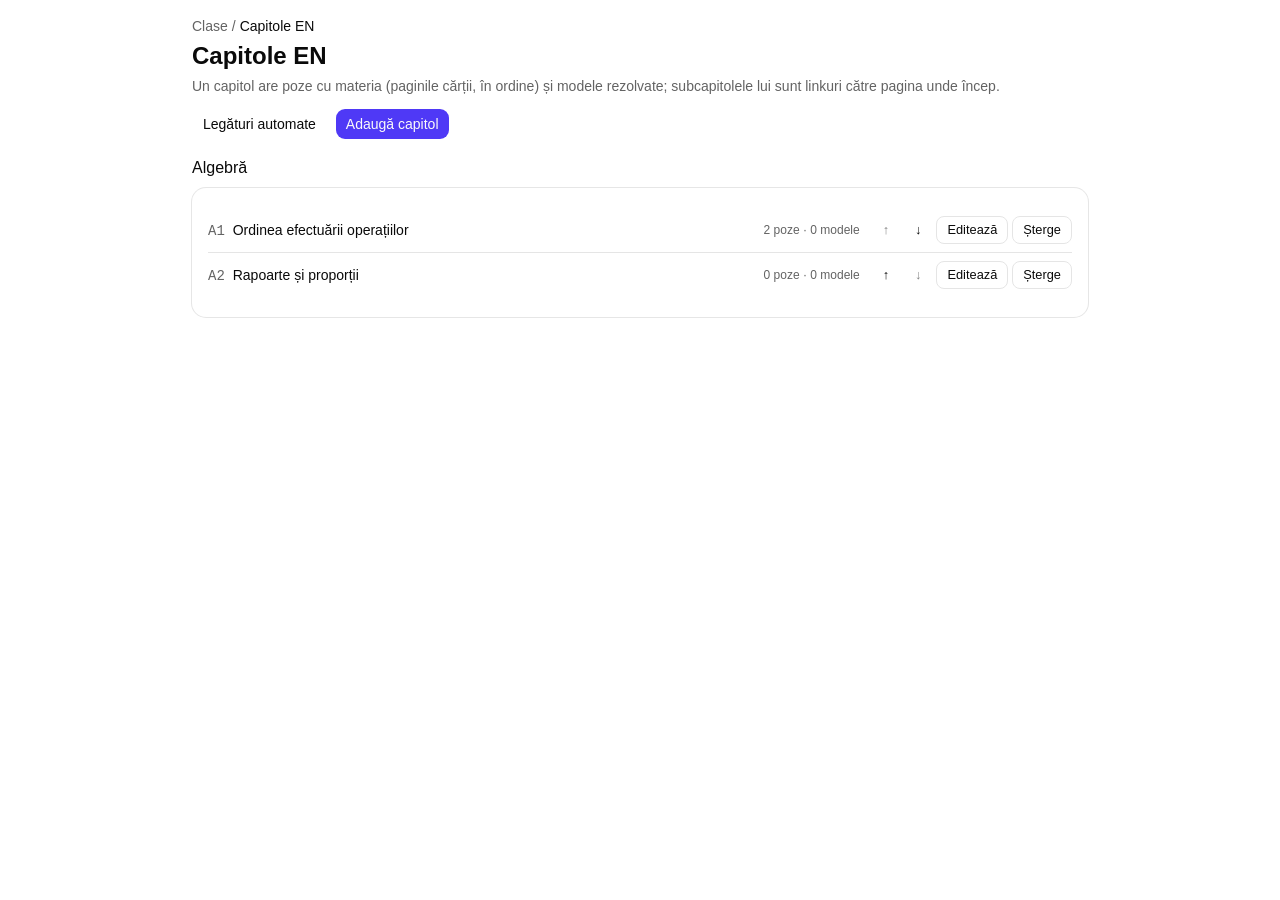
Scenario: AdminEnChaptersPage › asks before deleting and shows why the server refused
Click the button with aria-label "Șterge A1". click: (1042, 230)
box: x1=1012 y1=216 x2=1072 y2=244
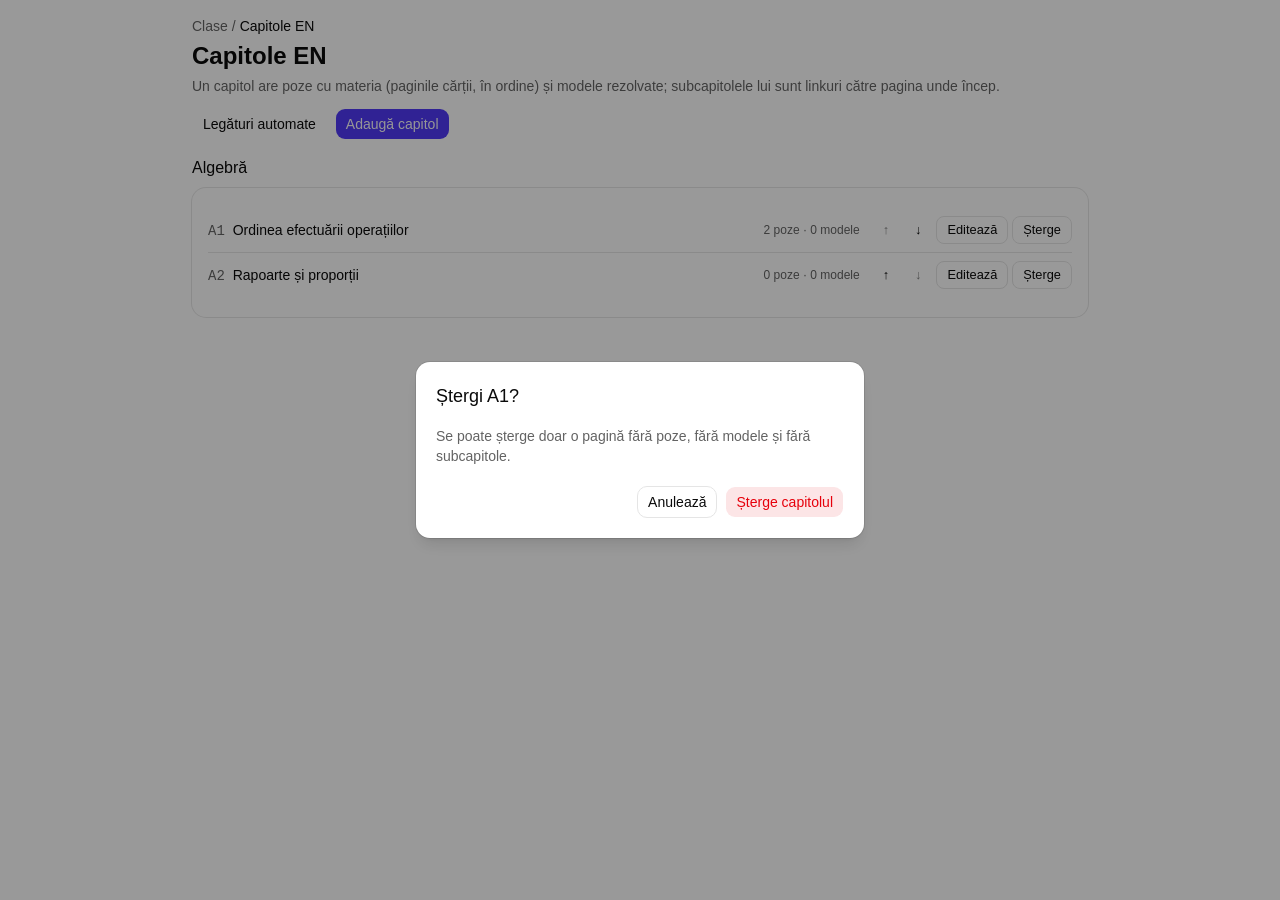
Click the button "Șterge capitolul". click: (785, 502)
box: x1=726 y1=486 x2=844 y2=518
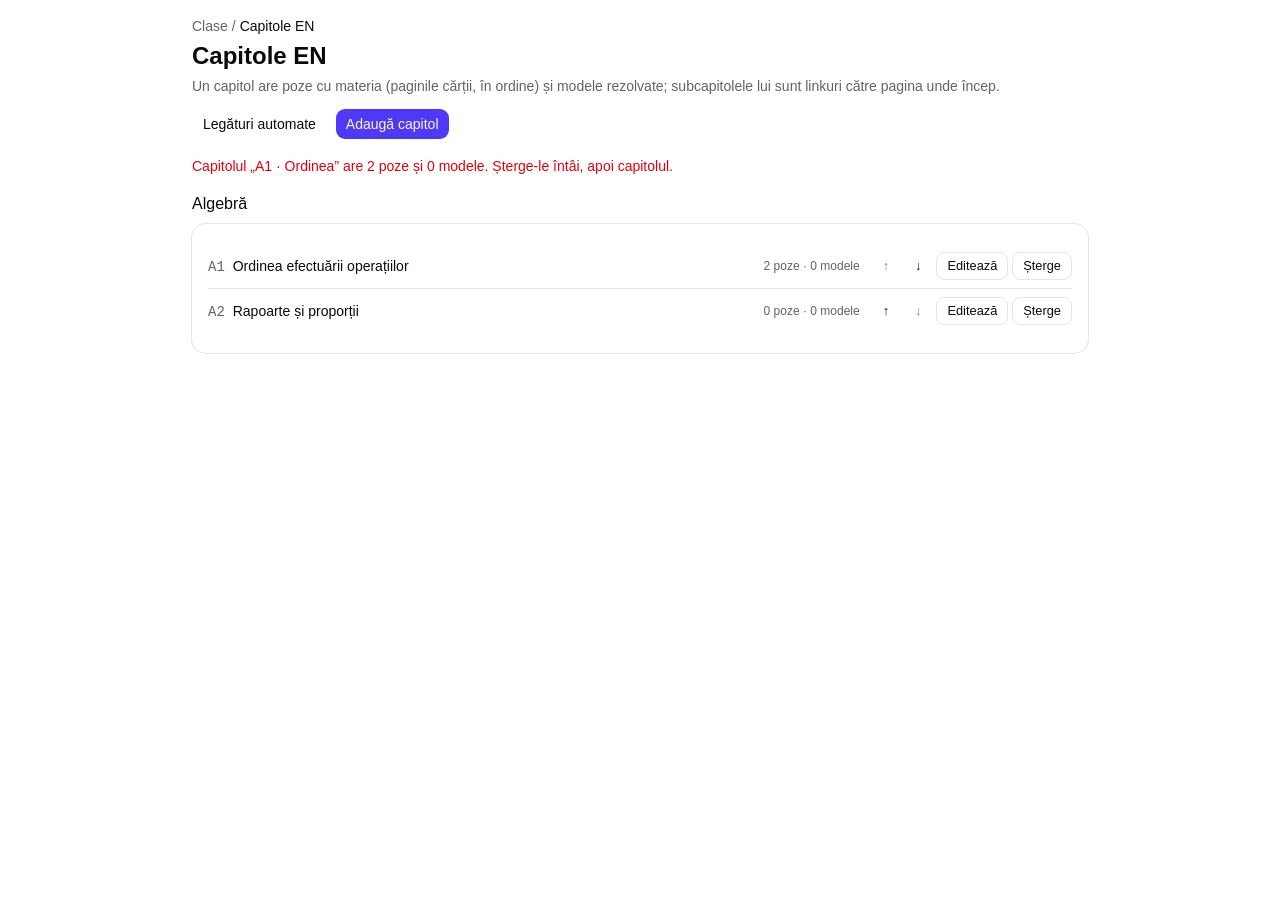
Now the text "Șterge-le întâi, apoi capitolul" is shown, box x1=192 y1=158 x2=673 y2=174
